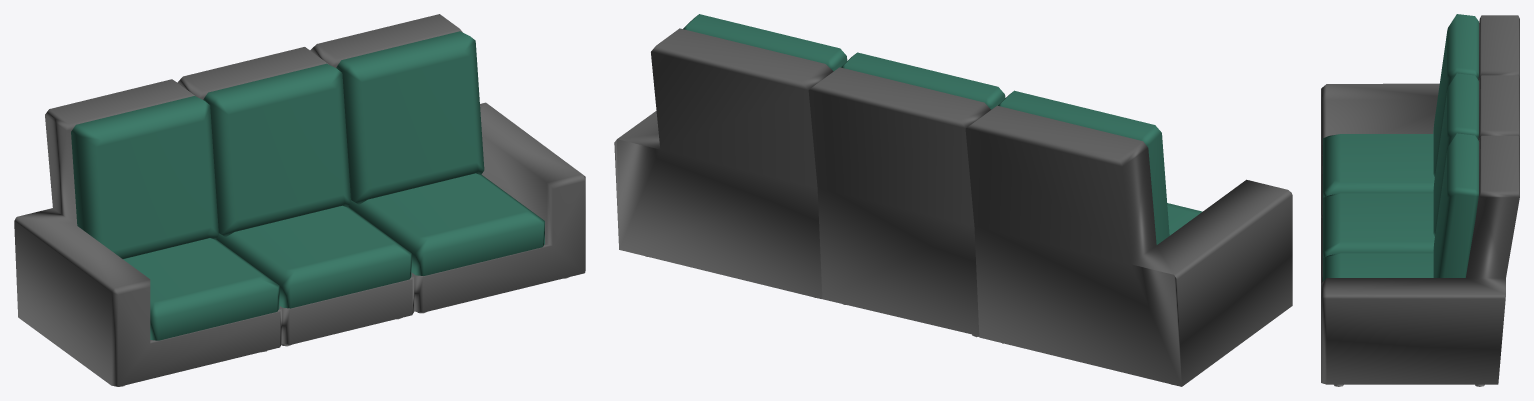
The model's file is sofa.glb.
3 views of the same model, side by side, from view 1: azimuth 30°, elevation 25°; view 2: azimuth 150°, elevation 25°; view 3: azimuth 270°, elevation 25° (orthographic). The views are drawn at different scales.
Parts seen in each view (by area): view 1: mesh_furniture_sofa_left_01, mesh_furniture_sofa_right_01, mesh_furniture_sofa_mid_01; view 2: mesh_furniture_sofa_left_01, mesh_furniture_sofa_right_01, mesh_furniture_sofa_mid_01; view 3: mesh_furniture_sofa_right_01, mesh_furniture_sofa_left_01, mesh_furniture_sofa_mid_01.
Boxes of the visible parts, bbox=[...] form: mesh_furniture_sofa_left_01: bbox=[14, 79, 281, 386]; mesh_furniture_sofa_right_01: bbox=[310, 14, 585, 313]; mesh_furniture_sofa_mid_01: bbox=[177, 47, 414, 346]; mesh_furniture_sofa_left_01: bbox=[965, 90, 1292, 386]; mesh_furniture_sofa_right_01: bbox=[614, 14, 847, 298]; mesh_furniture_sofa_mid_01: bbox=[808, 52, 1005, 337]; mesh_furniture_sofa_right_01: bbox=[1321, 133, 1519, 386]; mesh_furniture_sofa_left_01: bbox=[1321, 14, 1519, 217]; mesh_furniture_sofa_mid_01: bbox=[1321, 73, 1519, 277].
Bounding box in the file's own units: 2.65 × 1.07 × 1.05.
1 material, 1 textured.
